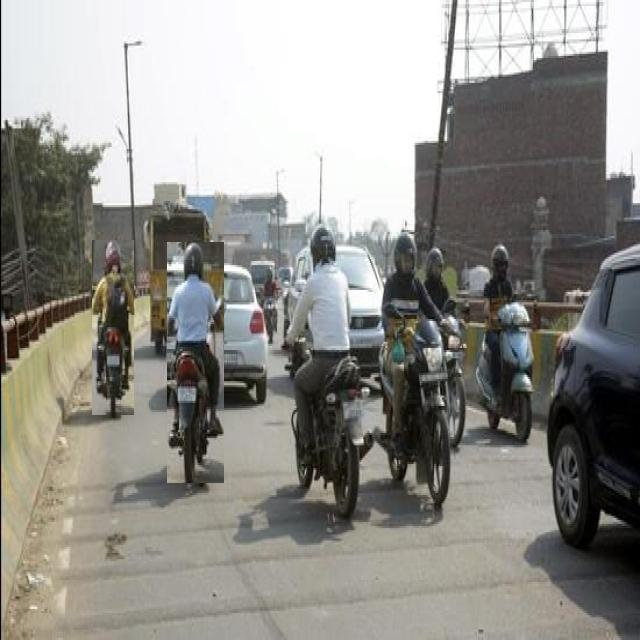car: (207, 265, 267, 403)
motorcycle: (284, 225, 373, 517), (374, 231, 450, 505), (167, 242, 224, 483), (476, 245, 534, 442), (93, 240, 134, 415)
